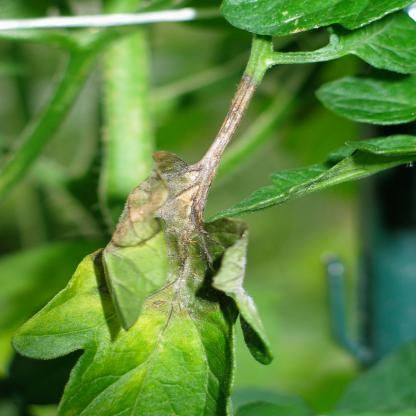tomato leaf late blight: (8, 137, 271, 415)
